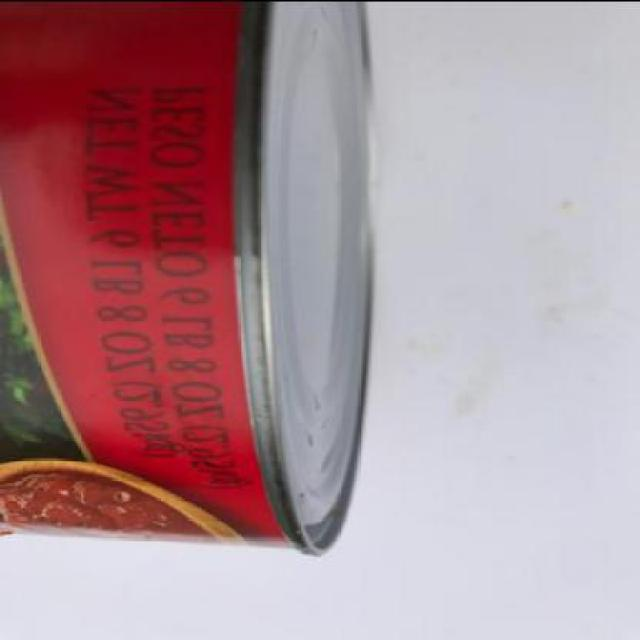METAL: (1, 1, 378, 556)
